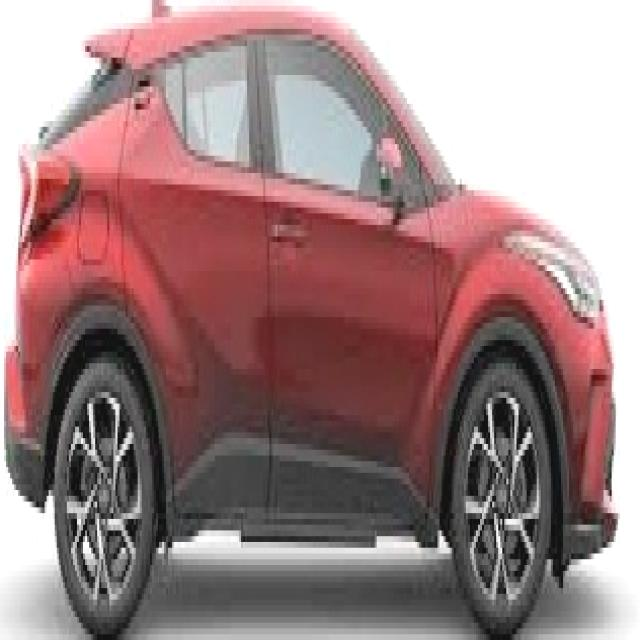maroon: (7, 21, 615, 599)
